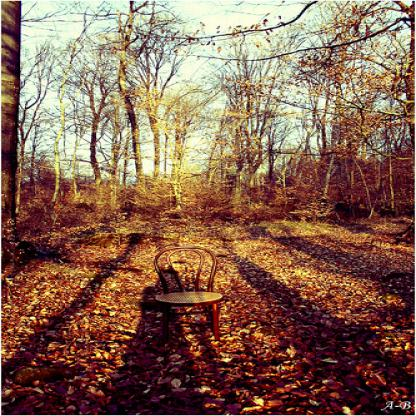chair: (150, 247, 225, 341)
